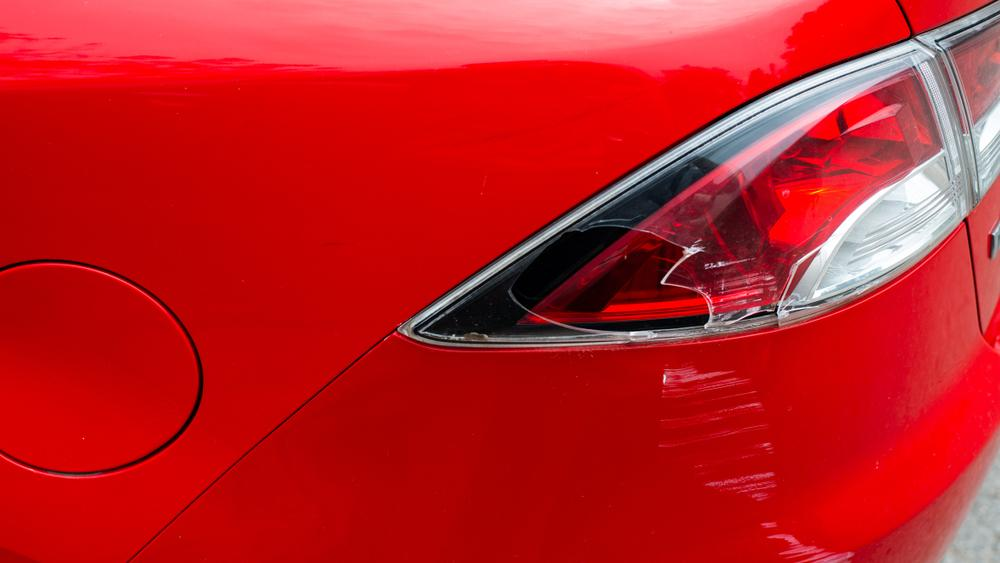lamp broken: (403, 39, 967, 347)
scratch: (658, 356, 873, 563)
